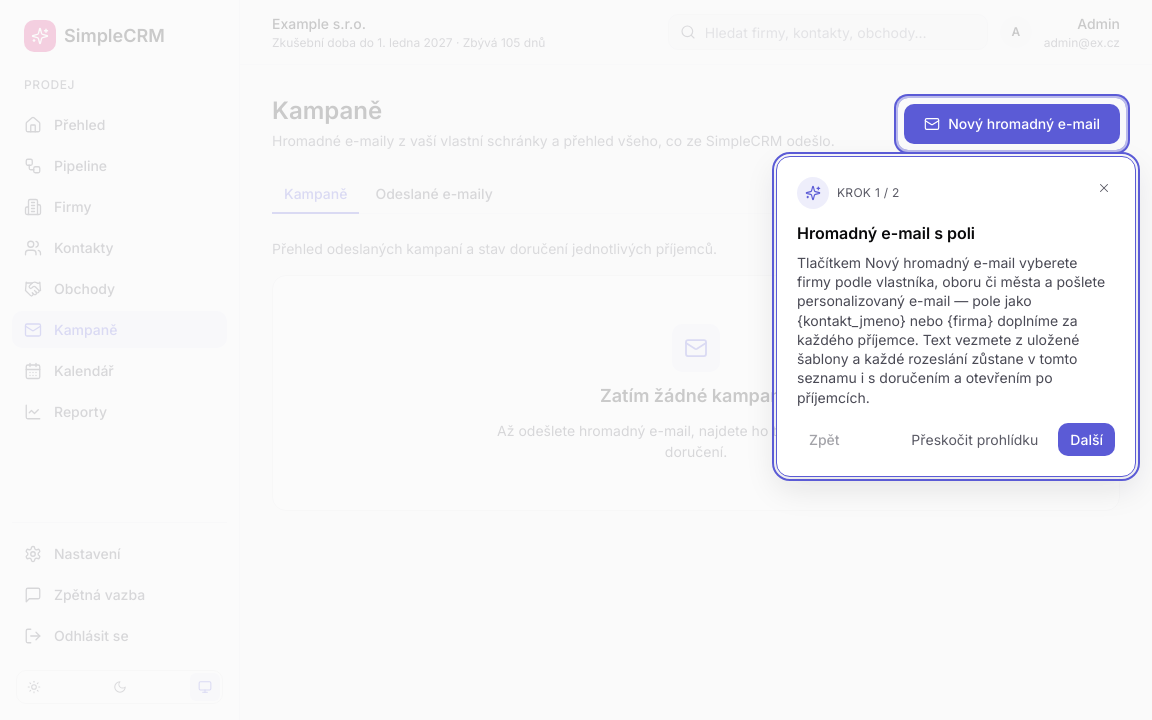
Scenario: Bulk email › gates the Kampaně button behind verified SMTP too
Click the button with test id "campaigns-new-button" at (1012, 124), box 904,104 -> 1120,144
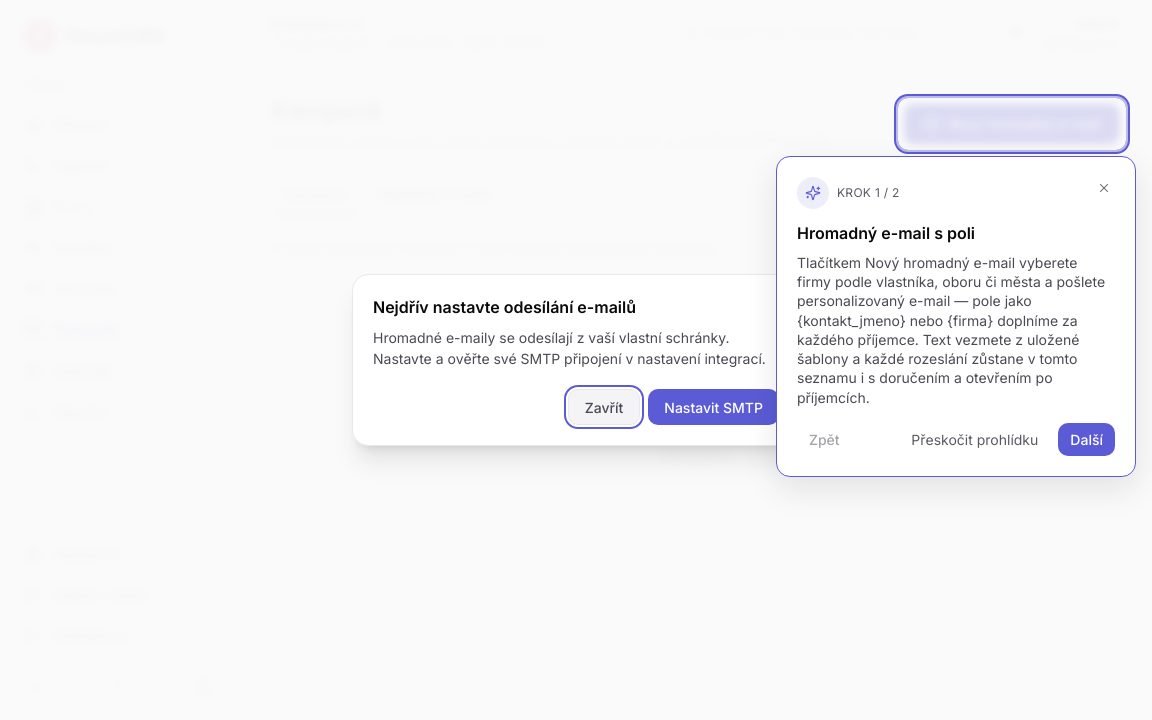
Check: the dialog with test id "campaigns-smtp-prompt" is shown
